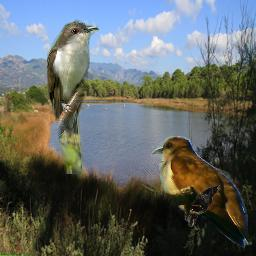Crow: (187, 184, 221, 227)
Cuckoo: (152, 136, 248, 249), (47, 17, 99, 174)
